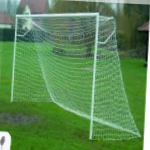goals: (10, 9, 141, 142)
